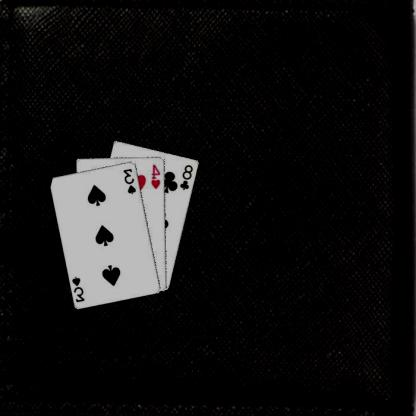3S: (122, 166, 139, 195), (72, 274, 87, 303)
4H: (150, 162, 164, 190)
8C: (180, 162, 196, 191)
